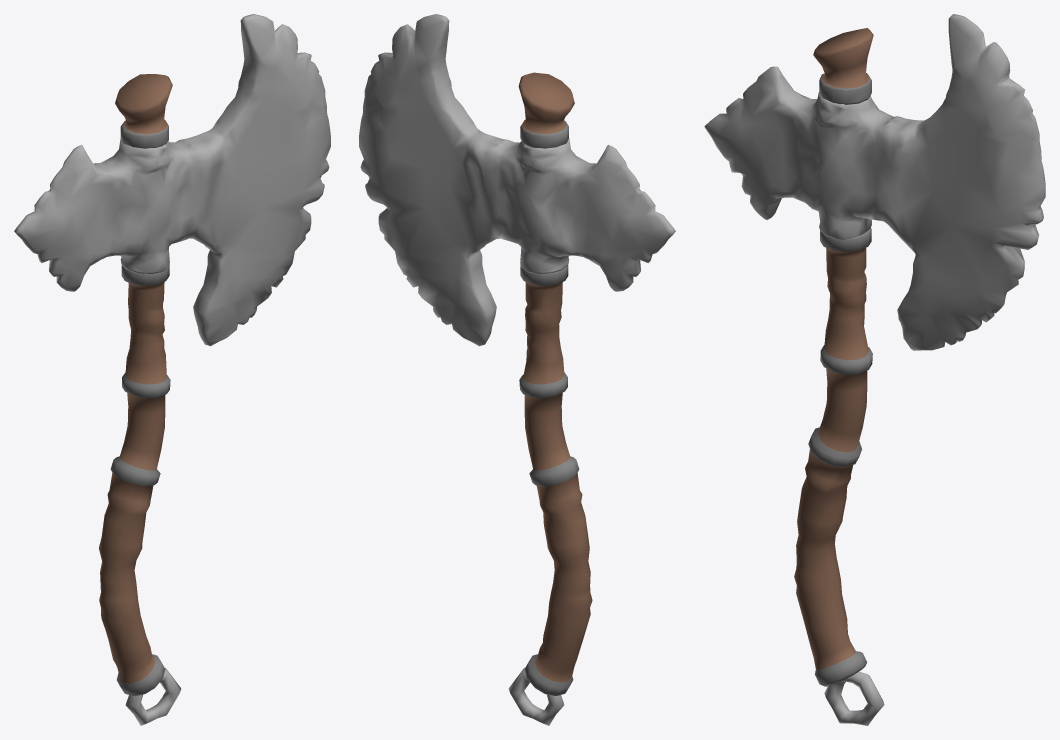
File: Axe.fbx
The picture shows the model from 3 angles, left to right: view 1: azimuth 30°, elevation 25°; view 2: azimuth 150°, elevation 25°; view 3: azimuth 330°, elevation 25°; orthographic projection. The views are drawn at different scales.
Visible parts, largest first — view 1: Axe; view 2: Axe; view 3: Axe.
Part boxes in pixels (x1,y1,x2,y2): Axe: (14,14,330,725); Axe: (359,14,675,725); Axe: (704,14,1045,725).
Size of the model in its own units: 37.88 by 78.62 by 6.49.
